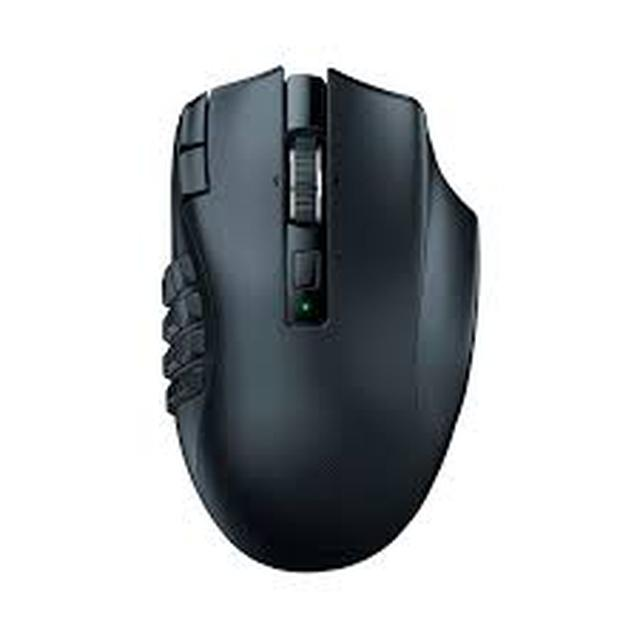mouse: (125, 39, 498, 575)
